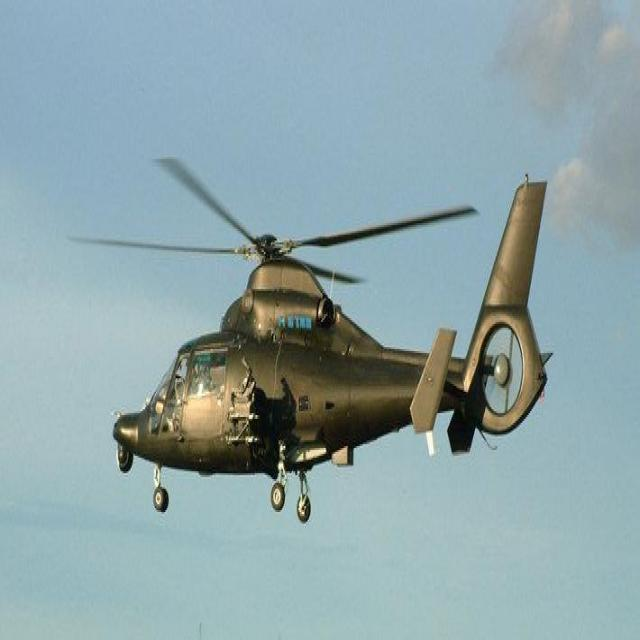MIL_HELO: (60, 147, 568, 538)
